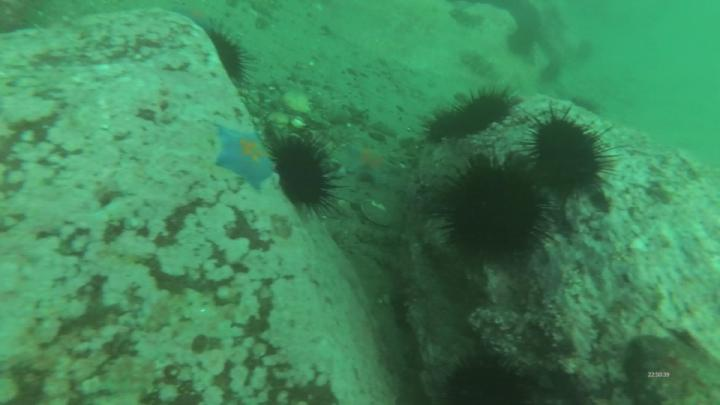echinus: (428, 154, 553, 268), (522, 100, 625, 200), (270, 129, 350, 224), (437, 350, 539, 405), (199, 18, 258, 88), (457, 86, 518, 133), (423, 103, 481, 145), (509, 25, 537, 60), (511, 1, 543, 29)
holothurian: (456, 47, 505, 86), (446, 6, 491, 34)
scallop: (358, 196, 397, 232)
starfish: (212, 124, 277, 194), (344, 140, 400, 185)
